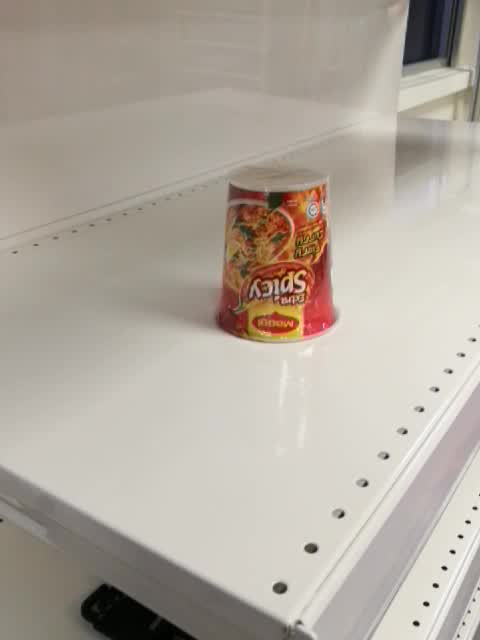maggi: (215, 164, 340, 345)
